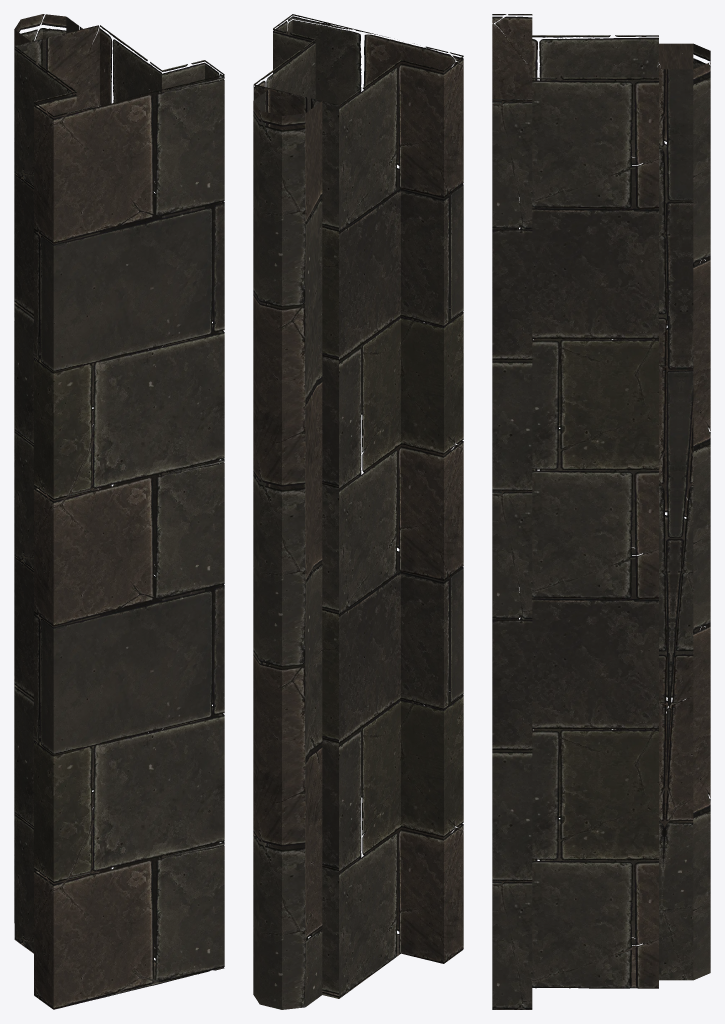
3 views of the same model, side by side, from view 1: azimuth 30°, elevation 25°; view 2: azimuth 150°, elevation 25°; view 3: azimuth 270°, elevation 25° (orthographic).
Visible parts, largest first — view 1: SM_Greathall_Wall_8x10_05_LOD0; view 2: SM_Greathall_Wall_8x10_05_LOD0; view 3: SM_Greathall_Wall_8x10_05_LOD0.
Boxes of the visible parts, box(x1,y1,x2,y2) form: SM_Greathall_Wall_8x10_05_LOD0: box(14, 14, 224, 1009); SM_Greathall_Wall_8x10_05_LOD0: box(253, 14, 463, 1009); SM_Greathall_Wall_8x10_05_LOD0: box(492, 14, 710, 1009).
Bounding box in the file's own units: 2 × 10 × 2.17.
Materials: 1 (1 with a texture image).
